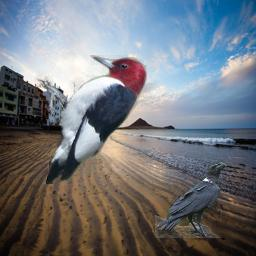Crow: (155, 161, 228, 238)
Woodpecker: (34, 55, 147, 184)
